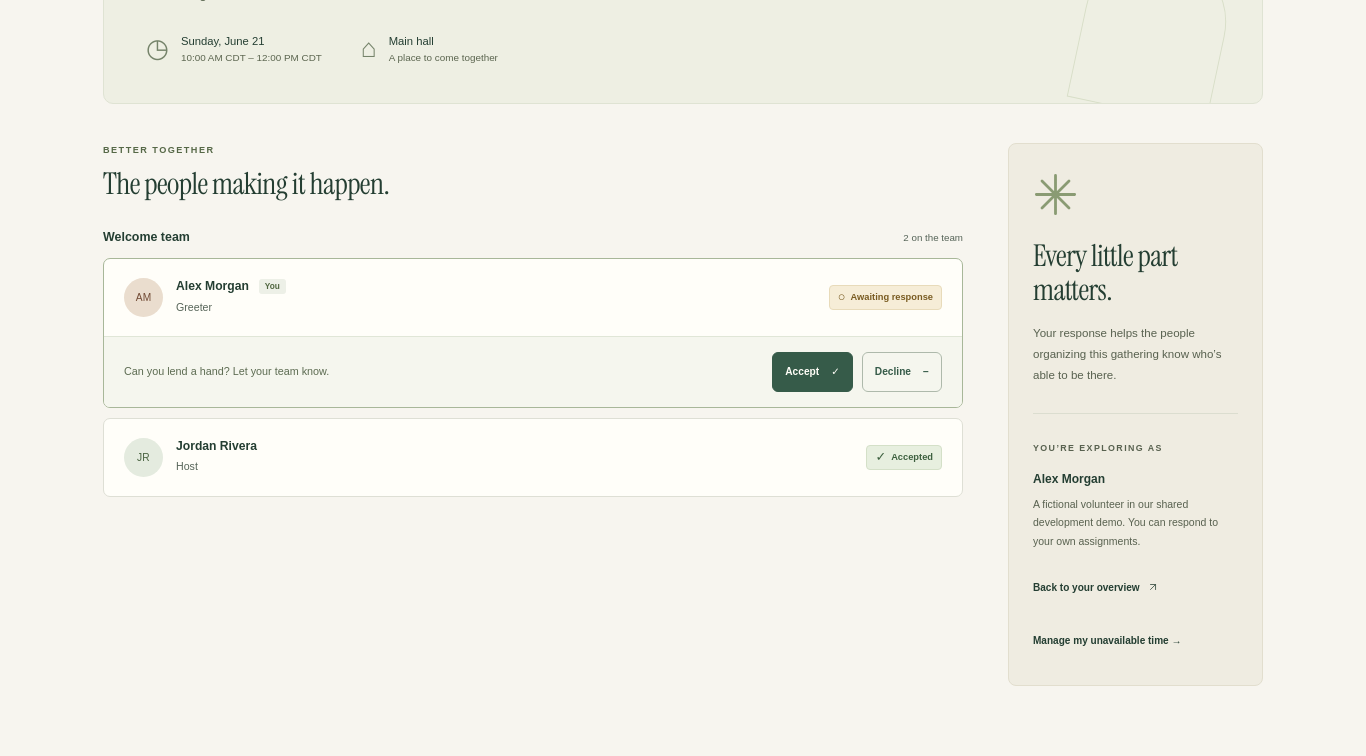
Test case: the community demo › keeps the pending status and allows retry after a failed save
(page scrolled)
Click the button "Accept ✓". click: [813, 372]
box: top-left (772, 352), bottom-right (853, 392)
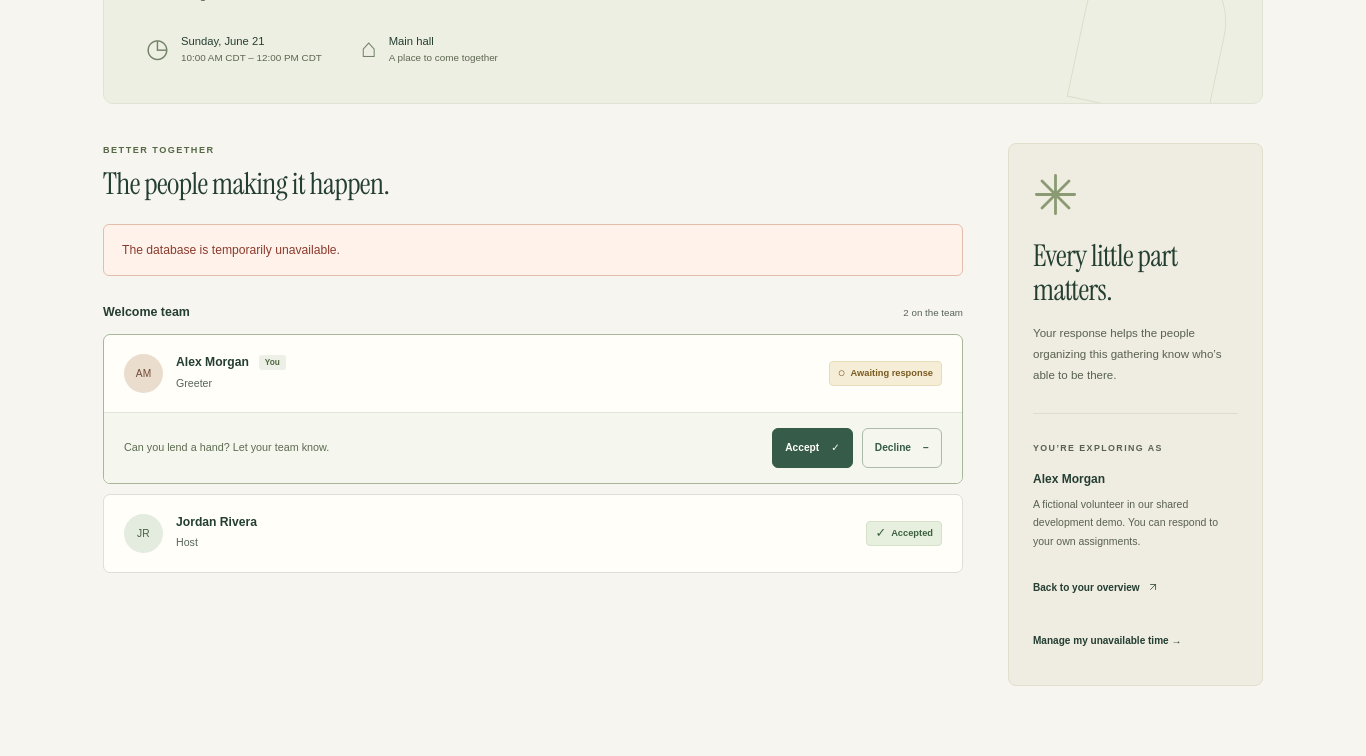
Expected: the button "Accept ✓" is enabled, top-left (772, 428), bottom-right (853, 468)
Now the message reads "The database is temporarily unavailable.", box top-left (122, 243), bottom-right (340, 257)
